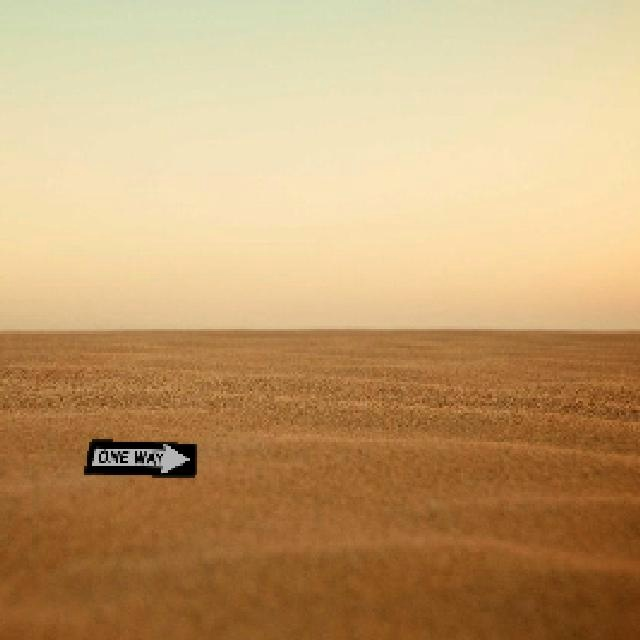ONE_WAY_ right: (81, 437, 195, 475)
